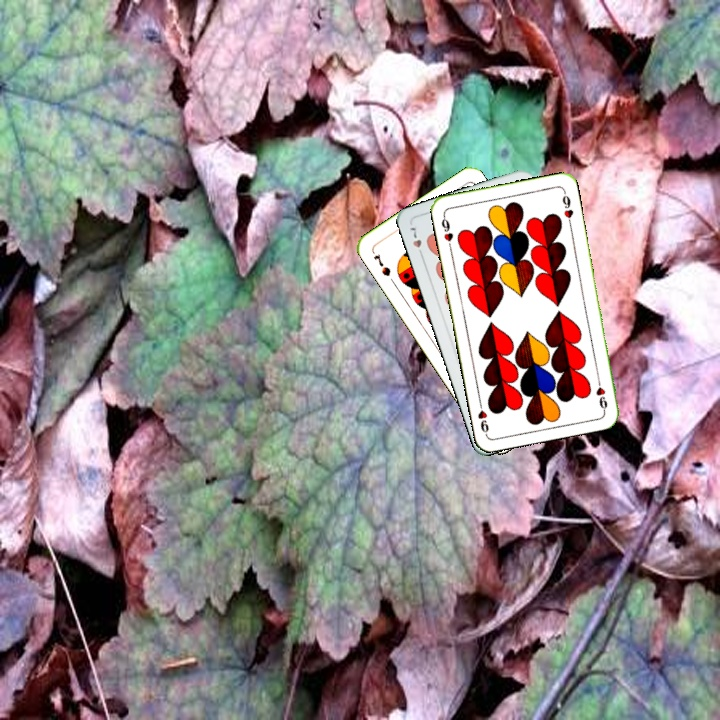H7: (406, 223, 426, 261)
H9: (437, 211, 456, 251), (592, 373, 610, 413)
S7: (369, 250, 393, 279)
